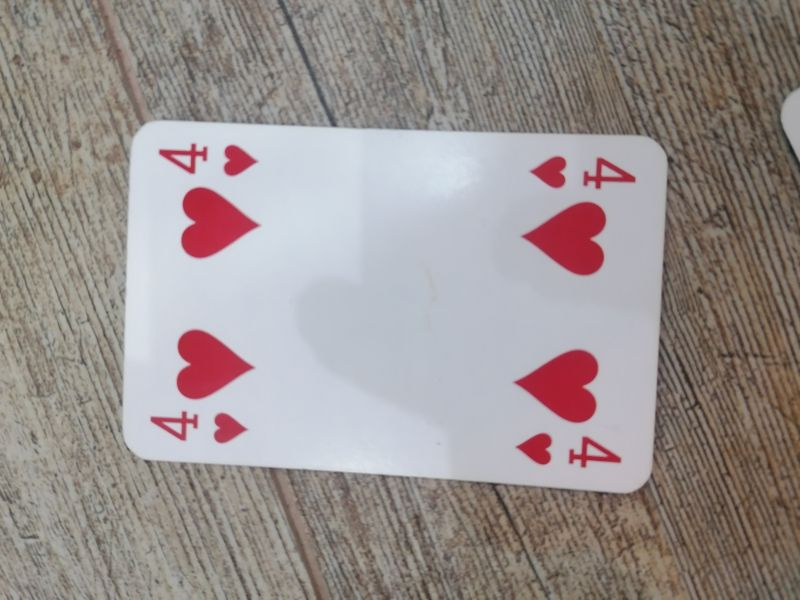4h: (504, 423, 632, 471), (521, 148, 639, 194), (136, 406, 259, 450), (152, 135, 267, 180)
